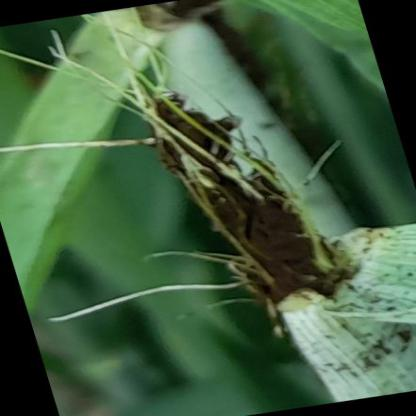Wheat Smut: (200, 184, 282, 209), (160, 128, 227, 158), (211, 216, 297, 235), (174, 162, 237, 178), (148, 100, 183, 127), (188, 112, 210, 126)
